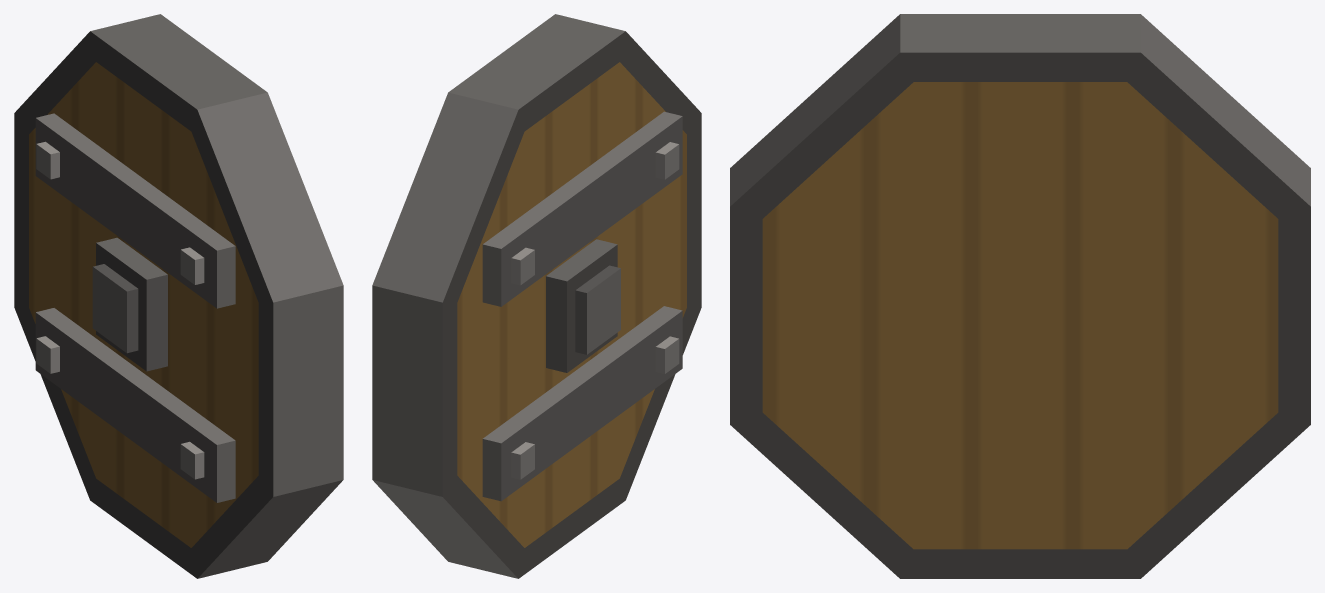
The model's file is Wheel.gltf.
3 views of the same model, side by side, from view 1: azimuth 30°, elevation 25°; view 2: azimuth 150°, elevation 25°; view 3: azimuth 270°, elevation 25° (orthographic). The views are drawn at different scales.
Parts seen in each view (by area): view 1: SF_Prop_Wheel_01; view 2: SF_Prop_Wheel_01; view 3: SF_Prop_Wheel_01.
Boxes of the visible parts, x1,y1,x2,y2 form: SF_Prop_Wheel_01: (14,14,343,578); SF_Prop_Wheel_01: (372,14,701,578); SF_Prop_Wheel_01: (730,14,1310,578).
Size of the model in its own units: 0.00313 by 0.0136 by 0.0136.
1 material, 1 textured.
